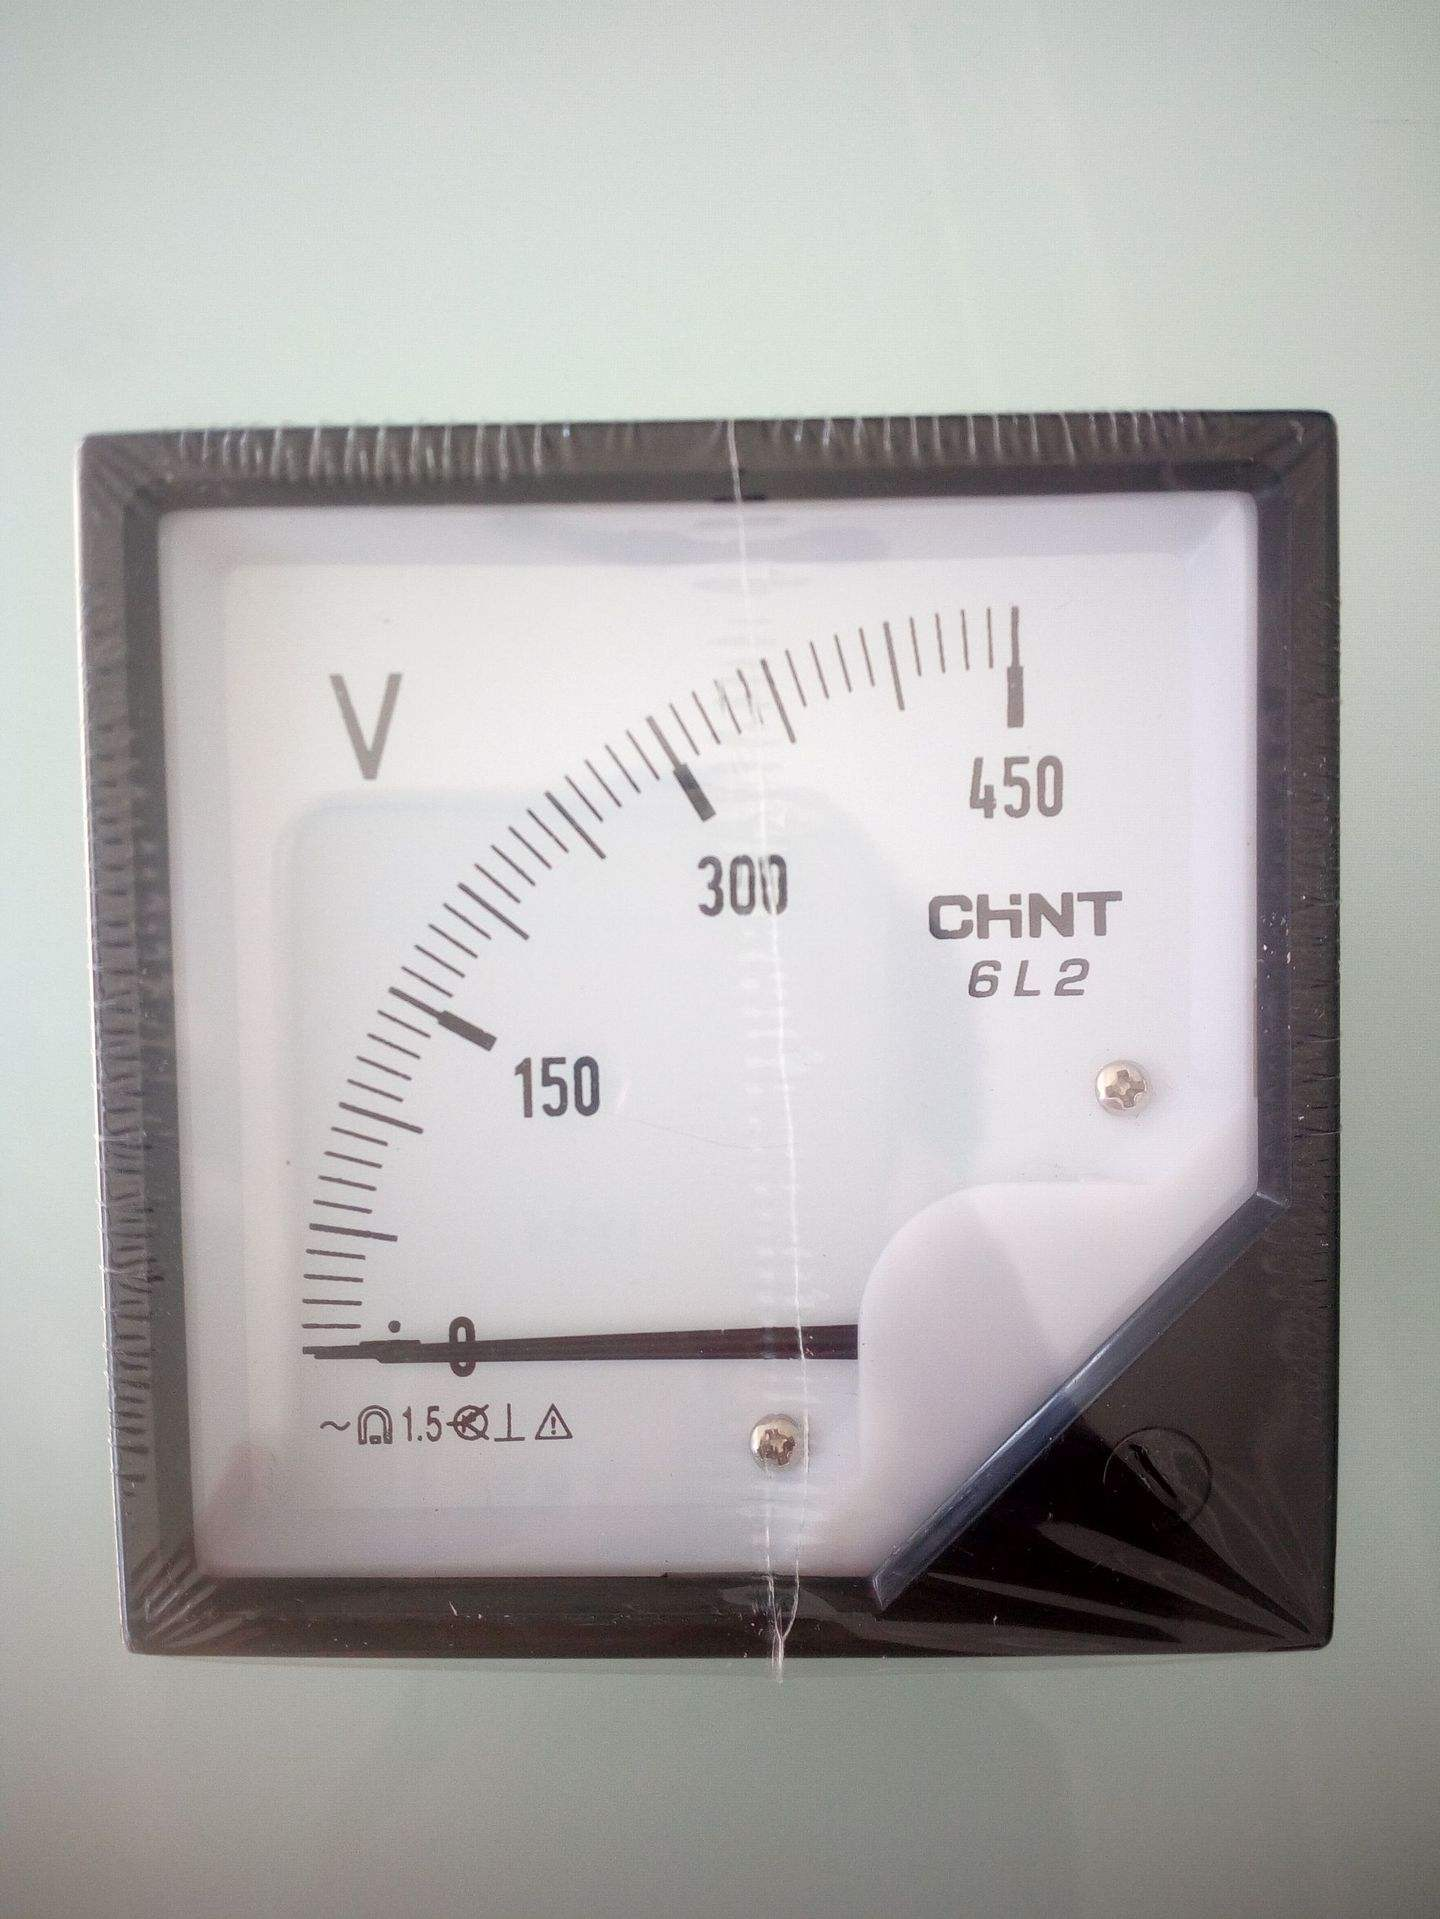pointer: (129, 472, 1265, 1577)
